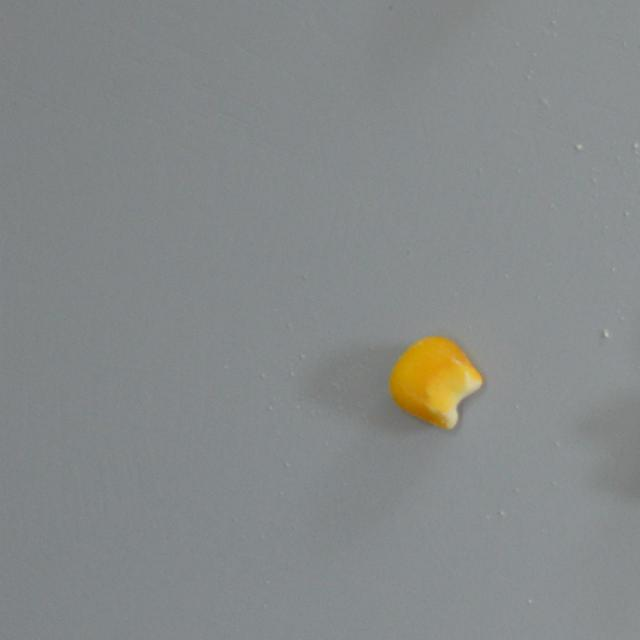pelicula: (384, 333, 487, 434)
